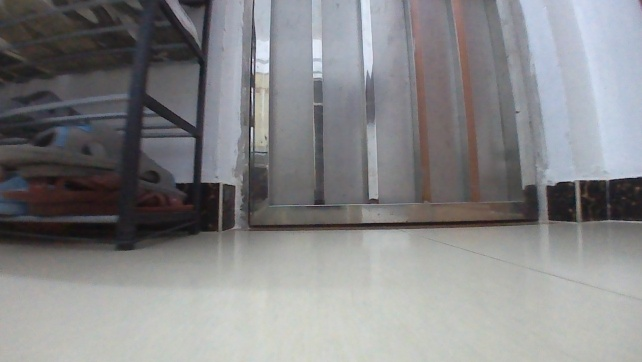door_anno: (240, 0, 544, 228)
slipper: (0, 120, 186, 201), (0, 178, 193, 217)
